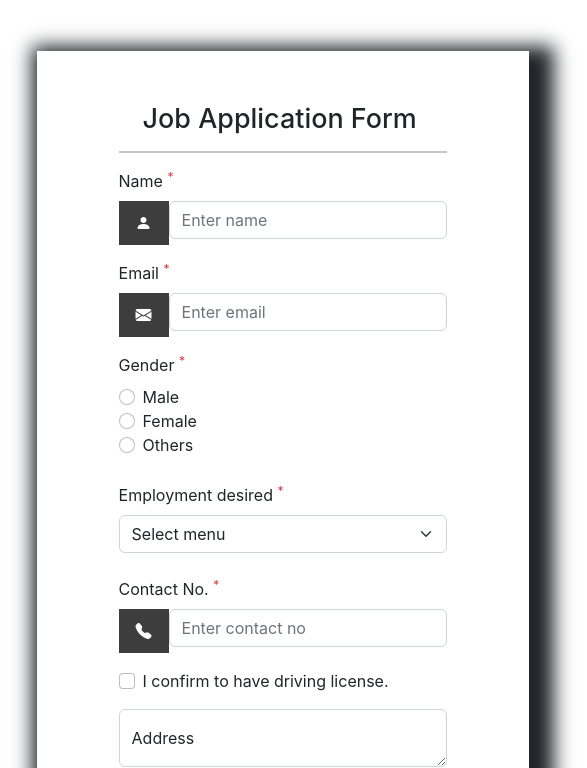
Dynamic Form › checkbox of driving license
Step 1. Click the checkbox with test id "driving_license" → (126, 681), box [118,673,134,689]
(page scrolled)
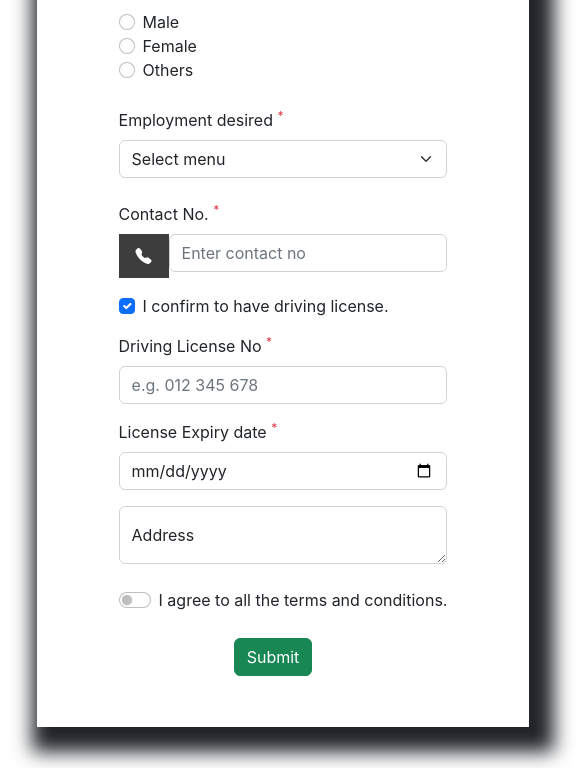
Expected: the checkbox with test id "driving_license" is checked, [118,298,134,314]
Expected: the date field with test id "license_expiry" is shown, [118,452,447,490]
Expected: the field with test id "identity" is shown, [118,366,447,404]
